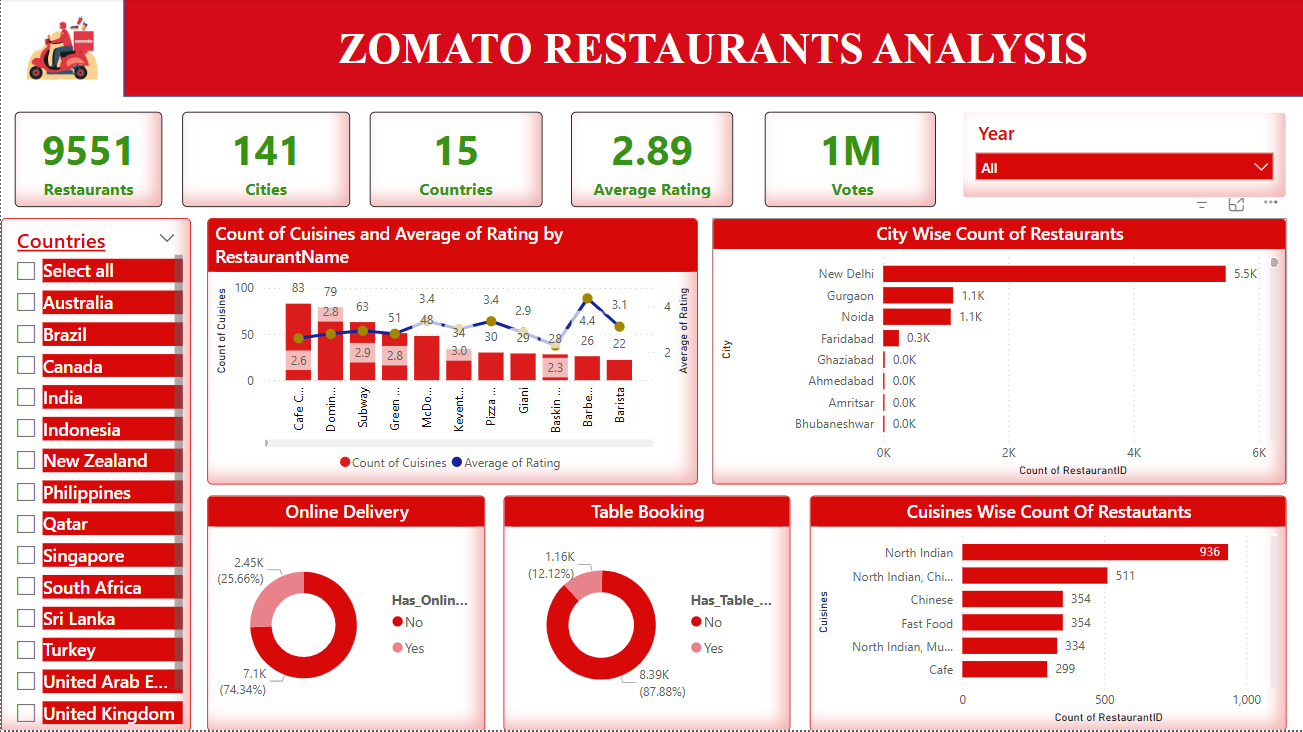

The page's visual inventory and layout, read from the dashboard file:
{"tool":"powerbi","page":{"name":"Page 1","canvas":[1280,720],"ordinal":0},"visuals":[{"type":"shape","box":[120.3,0,1159.4,96.9],"z":0},{"type":"textbox","box":[318.9,20.2,760.3,76.5],"z":1000},{"type":"card","fields":{"Values":["CountNonNull(restaurants.RestaurantID)"]},"box":[13.2,111.5,145.3,85.1],"z":2000},{"type":"card","fields":{"Values":["Count(restaurants.City)"]},"box":[177.6,111.5,164.4,85.1],"z":3000},{"type":"card","fields":{"Values":["Count(restaurants.CountryCode)"]},"box":[362.5,111.5,168.8,85.1],"z":4000},{"type":"card","fields":{"Values":["Avg(restaurants.Rating)"]},"box":[559.1,111.5,160,85.1],"z":5000},{"type":"card","fields":{"Values":["Sum(restaurants.Votes)"]},"box":[749.9,111.5,167.3,85.1],"z":6000},{"type":"slicer","fields":{"Values":["countries.country name"]},"box":[0,215.7,186.4,504.8],"z":7000},{"type":"lineStackedColumnComboChart","fields":{"Y":["CountNonNull(restaurants.Cuisines)"],"Y2":["Avg(restaurants.Rating)"],"Category":["restaurants.RestaurantName"]},"box":[202.5,215.7,481.4,261.2],"z":8000},{"type":"clusteredBarChart","title":"City Wise Count of Restaurants","fields":{"Category":["restaurants.City"],"Y":["CountNonNull(restaurants.RestaurantID)"]},"box":[698.6,215.7,563.5,261.2],"z":9000},{"type":"clusteredBarChart","title":" Cuisines Wise Count Of Restautants","fields":{"Category":["restaurants.Cuisines"],"Y":["CountNonNull(restaurants.RestaurantID)"]},"box":[794,488.7,468.2,231.9],"z":10000},{"type":"donutChart","title":"Online Delivery","fields":{"Category":["restaurants.Has_Online_delivery"],"Y":["CountNonNull(restaurants.RestaurantID)"]},"box":[202.5,488.7,273,231.9],"z":11000},{"type":"donutChart","title":"Table Booking","fields":{"Category":["restaurants.Has_Table_booking"],"Y":["CountNonNull(restaurants.RestaurantID)"]},"box":[493.1,488.7,281.8,231.9],"z":12000},{"type":"slicer","fields":{"Values":["restaurants.Datekey_Opening.Variation.Date Hierarchy.Year"]},"box":[943.7,111.5,318.5,85.1],"z":13000},{"type":"image","box":[0,0,120.3,96.9],"z":14000}]}

Visuals, with their boxes in screenshot pixels (x1, y1, x2, y2), scaled from the page's 1280x720 canvas onto the 1303x732 screenshot:
shape: [left=122, top=0, right=1302, bottom=99]
textbox: [left=325, top=21, right=1099, bottom=98]
card - CountNonNull(restaurants.RestaurantID): [left=13, top=113, right=161, bottom=200]
card - Count(restaurants.City): [left=181, top=113, right=348, bottom=200]
card - Count(restaurants.CountryCode): [left=369, top=113, right=541, bottom=200]
card - Avg(restaurants.Rating): [left=569, top=113, right=732, bottom=200]
card - Sum(restaurants.Votes): [left=763, top=113, right=934, bottom=200]
slicer - countries.country name: [left=0, top=219, right=190, bottom=731]
lineStackedColumnComboChart - CountNonNull(restaurants.Cuisines) x Avg(restaurants.Rating): [left=206, top=219, right=696, bottom=485]
"City Wise Count of Restaurants" clusteredBarChart: [left=711, top=219, right=1285, bottom=485]
" Cuisines Wise Count Of Restautants" clusteredBarChart: [left=808, top=497, right=1285, bottom=731]
"Online Delivery" donutChart: [left=206, top=497, right=484, bottom=731]
"Table Booking" donutChart: [left=502, top=497, right=789, bottom=731]
slicer - restaurants.Datekey_Opening.Variation.Date Hierarchy.Year: [left=961, top=113, right=1285, bottom=200]
image: [left=0, top=0, right=122, bottom=99]
